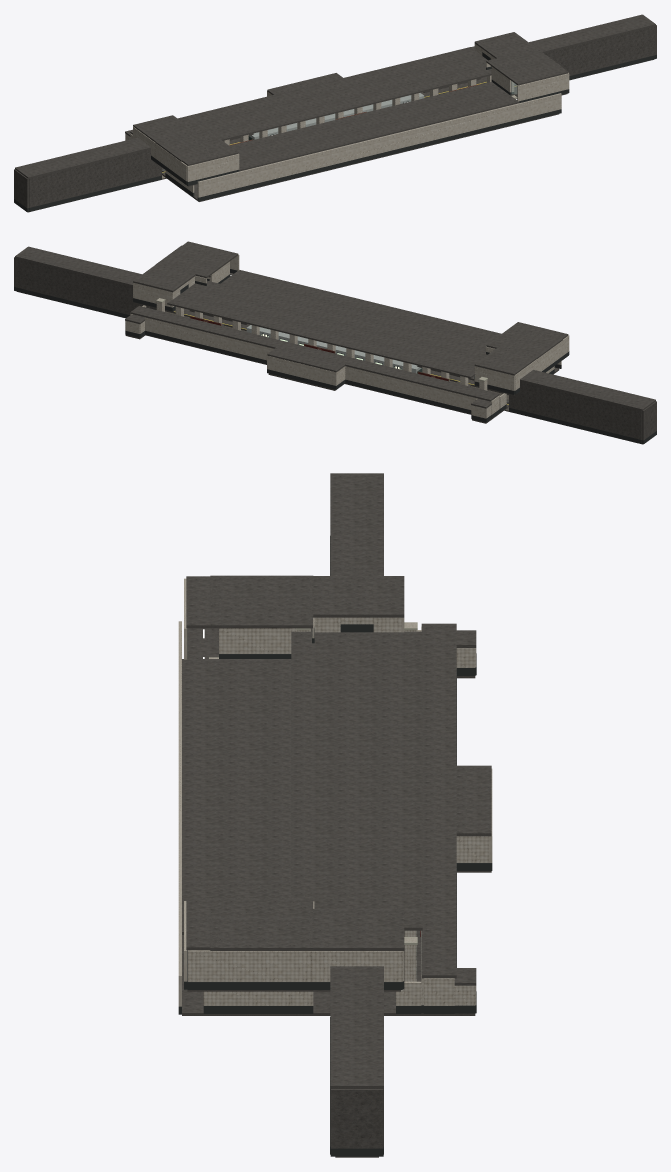
Rendered from arena.glb.
The picture shows the model from 3 angles, top to bottom: view 1: azimuth 30°, elevation 25°; view 2: azimuth 150°, elevation 25°; view 3: azimuth 270°, elevation 25°; orthographic projection. The views are drawn at different scales.
Parts seen in each view (by area): view 1: hall-roof, concourse-roof, concourse-back, tunnel-wall--1-2.25, tunnel-wall-1-2.25, tunnel-roof--1, tunnel-roof-1, concourse-back-dado, red-spawn-roof, blue-spawn-roof, blue-landing-end, red-landing-end (+12 smaller); view 2: hall-roof, concourse-roof, flank-roof, tunnel-wall--1--2.25, tunnel-wall-1--2.25, tunnel-roof--1, south-exterior-left, tunnel-roof-1, south-exterior-right, blue-spawn-roof, red-spawn-roof, alcove-rear (+18 smaller); view 3: hall-roof, concourse-roof, flank-roof, tunnel-roof-1, tunnel-roof--1, blue-spawn-roof, red-spawn-roof, blue-gallery-outer, blue-gallery-roof, red-gallery-roof, tunnel-stop-1, alcove-roof (+9 smaller).
Boxes of the visible parts, bbox=[...] form: hall-roof: bbox=[177, 47, 491, 140]; concourse-roof: bbox=[229, 82, 519, 171]; concourse-back: bbox=[197, 93, 561, 197]; tunnel-wall--1-2.25: bbox=[29, 149, 152, 207]; tunnel-wall-1-2.25: bbox=[544, 26, 654, 75]; tunnel-roof--1: bbox=[15, 137, 150, 178]; tunnel-roof-1: bbox=[529, 14, 655, 52]; concourse-back-dado: bbox=[197, 109, 561, 201]; red-spawn-roof: bbox=[133, 115, 195, 142]; blue-spawn-roof: bbox=[474, 32, 536, 58]; blue-landing-end: bbox=[517, 73, 569, 101]; red-landing-end: bbox=[187, 153, 239, 181]; hall-roof: bbox=[167, 280, 487, 378]; concourse-roof: bbox=[220, 270, 501, 348]; flank-roof: bbox=[130, 306, 499, 401]; tunnel-wall--1--2.25: bbox=[518, 381, 641, 439]; tunnel-wall-1--2.25: bbox=[16, 258, 138, 314]; tunnel-roof--1: bbox=[520, 369, 655, 410]; south-exterior-left: bbox=[345, 366, 477, 409]; tunnel-roof-1: bbox=[15, 246, 141, 286]; south-exterior-right: bbox=[144, 317, 273, 360]; blue-spawn-roof: bbox=[133, 264, 195, 292]; red-spawn-roof: bbox=[474, 348, 536, 375]; alcove-rear: bbox=[267, 355, 336, 385]; hall-roof: bbox=[291, 631, 422, 930]; concourse-roof: bbox=[182, 659, 291, 934]; flank-roof: bbox=[421, 623, 456, 978]; tunnel-roof-1: bbox=[330, 966, 383, 1088]; tunnel-roof--1: bbox=[330, 473, 383, 575]; blue-spawn-roof: bbox=[310, 909, 404, 950]; red-spawn-roof: bbox=[310, 576, 404, 617]; blue-gallery-outer: bbox=[188, 950, 311, 981]; blue-gallery-roof: bbox=[210, 918, 313, 950]; red-gallery-roof: bbox=[210, 575, 313, 605]; tunnel-stop-1: bbox=[331, 1089, 383, 1148]; alcove-roof: bbox=[456, 765, 491, 836].
Size of the model in its own units: 133 by 9.1 by 28.67.
Materials: 121 (73 with a texture image).
